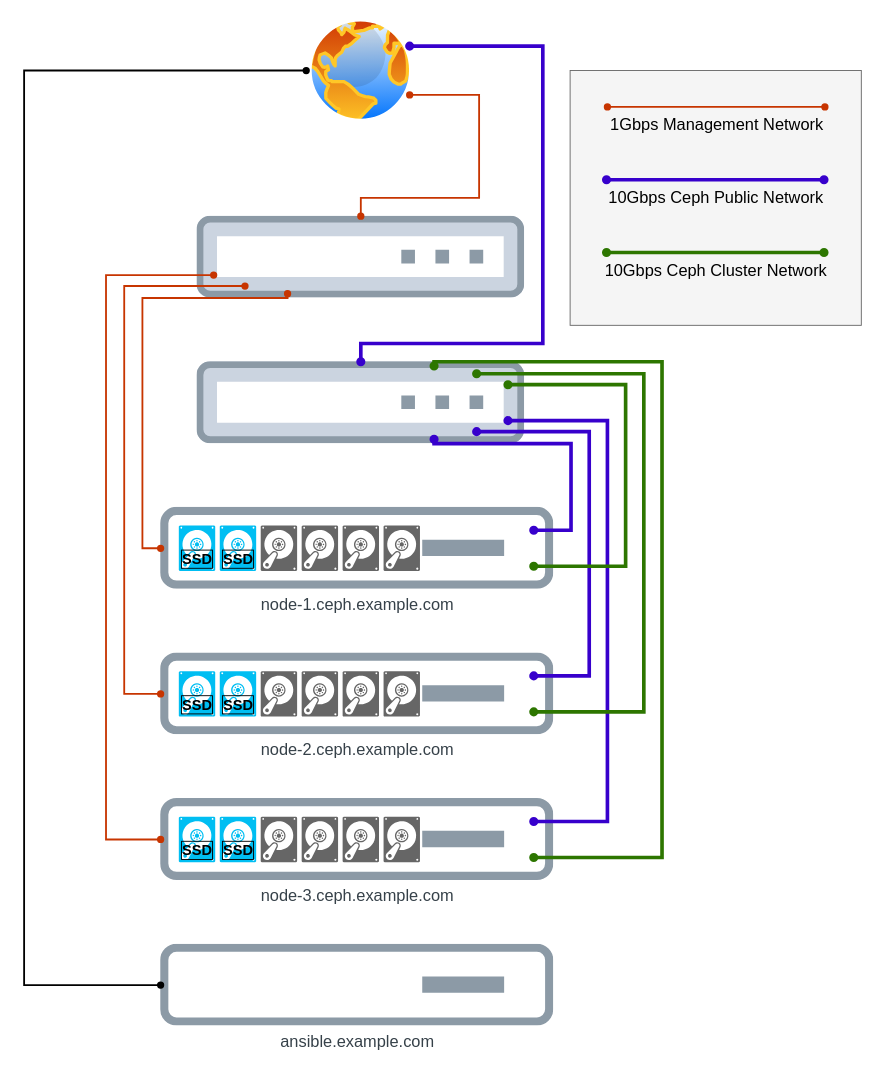
Image size: 877x1067. Some labels were removed from this diagram. Here are the shapes that lost their labels. From the top down, the box of each, then its label:
(306, 15, 415, 125): Internet
(197, 216, 524, 298): 1Gbps Switch
(197, 361, 524, 443): 10Gbps Switch
